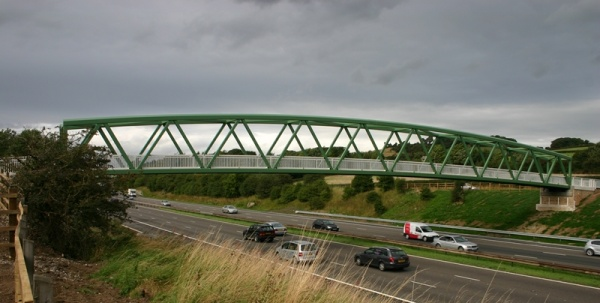bridge: (63, 113, 580, 215)
